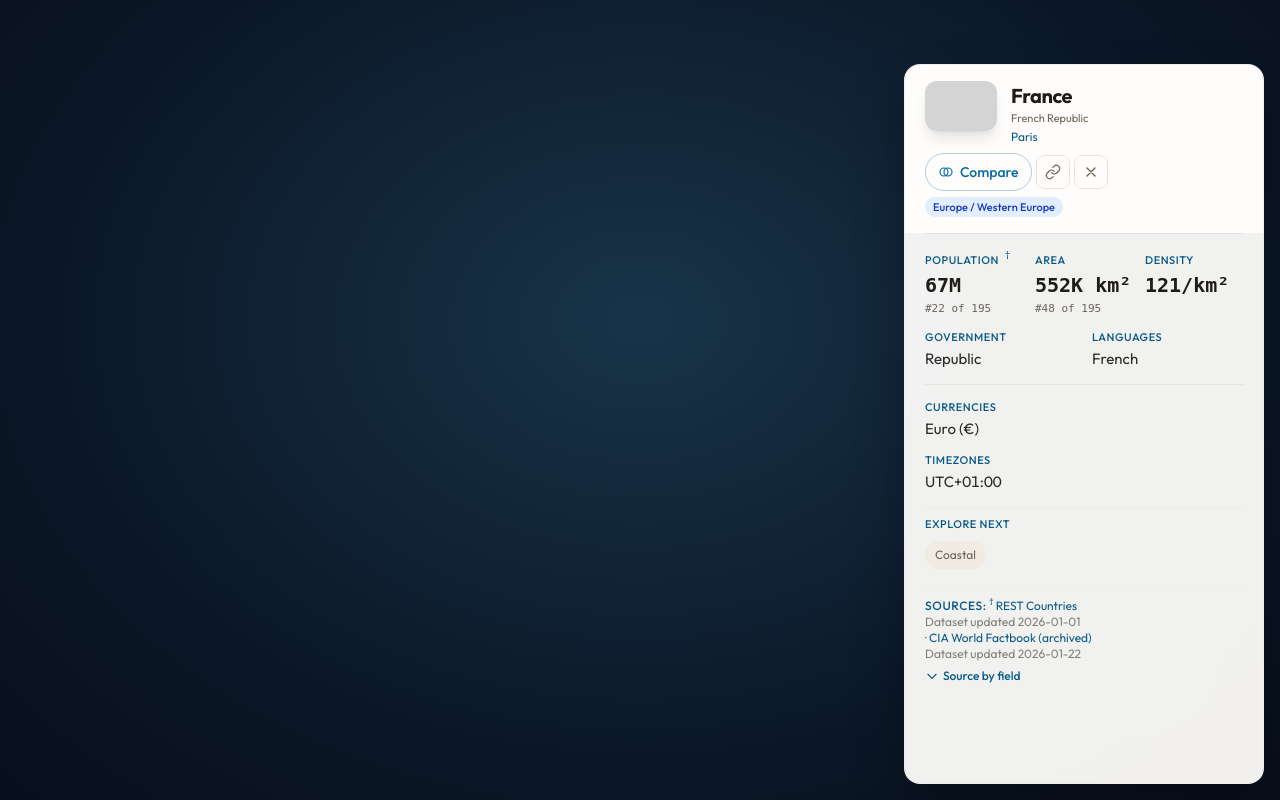
SingleCountryPanel — consolidated sources footer (D2) › the table falls back to the raw source key when _sources lacks it (manual-override)
Click the button with test id "panel-sources-toggle": click(973, 676) [925,668,1020,684]
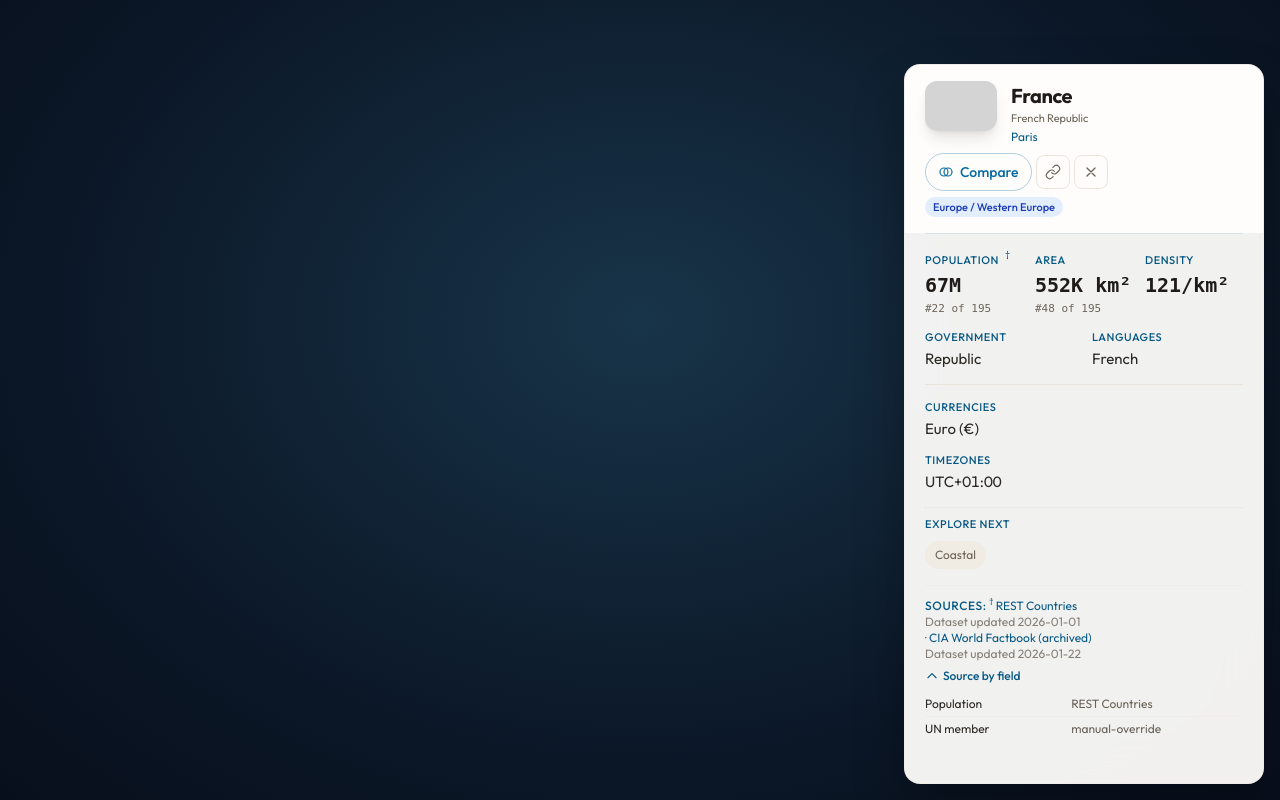
Now the column heading "UN member" is shown, box [925,716,1071,740]
Now the cell "manual-override" is shown, box [1071,716,1243,740]
